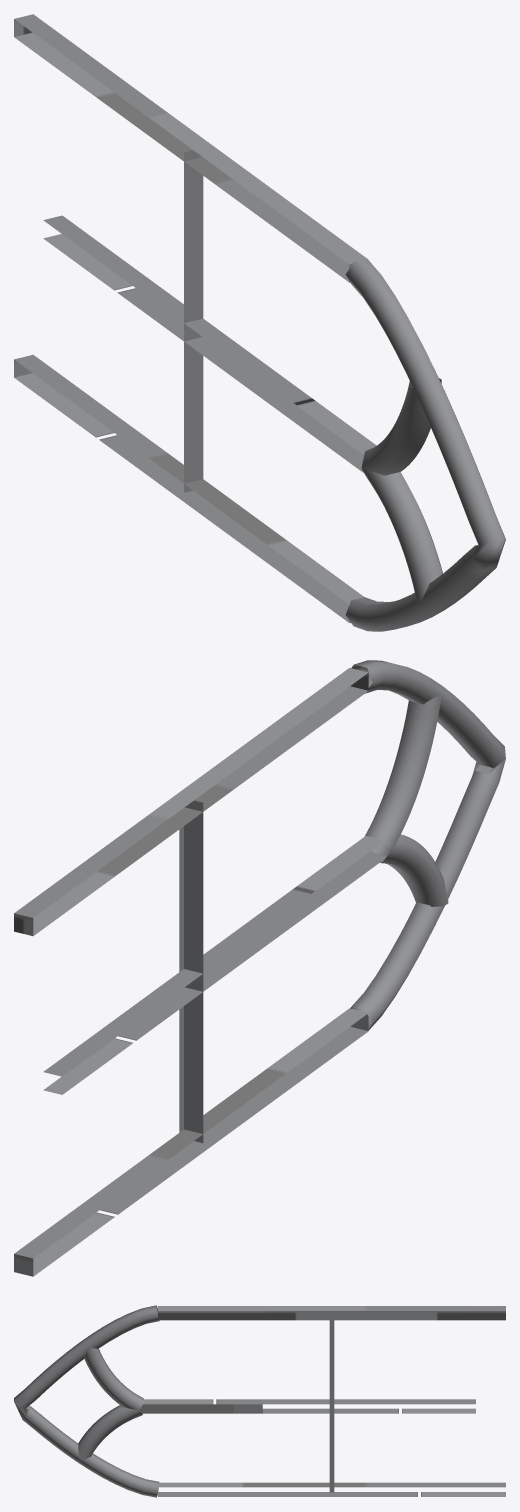
3 views of the same model, one above another, from view 1: azimuth 30°, elevation 25°; view 2: azimuth 150°, elevation 25°; view 3: azimuth 270°, elevation 25° (orthographic). The views are drawn at different scales.
Bounding box in the file's own units: 0.08 × 0.8994 × 2.12.
